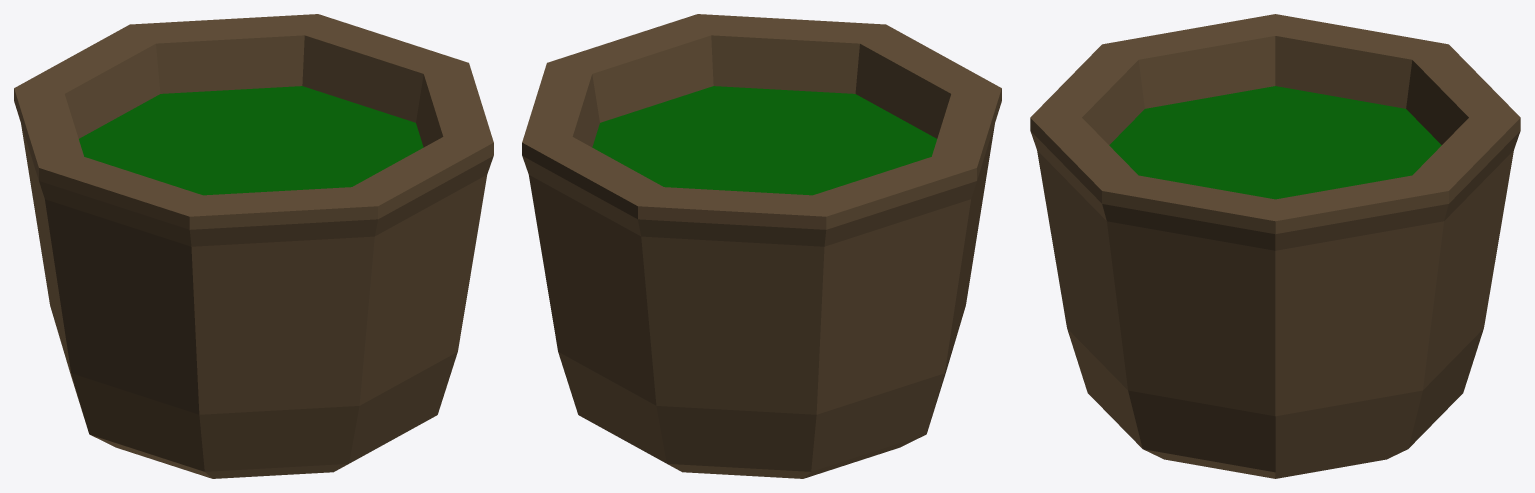
File: Asian_Prop_Cup_Mug_Tea_Sake_Full_01.FBX
3 views of the same model, side by side, from view 1: azimuth 30°, elevation 25°; view 2: azimuth 150°, elevation 25°; view 3: azimuth 270°, elevation 25° (orthographic).
Visible parts, largest first — view 1: Asian_Prop_Cup_Mug_Tea_Sake_Full_01; view 2: Asian_Prop_Cup_Mug_Tea_Sake_Full_01; view 3: Asian_Prop_Cup_Mug_Tea_Sake_Full_01.
Part boxes in pixels (left/top/right/bottom): Asian_Prop_Cup_Mug_Tea_Sake_Full_01: left=14, top=14, right=493, bottom=478; Asian_Prop_Cup_Mug_Tea_Sake_Full_01: left=522, top=14, right=1001, bottom=478; Asian_Prop_Cup_Mug_Tea_Sake_Full_01: left=1030, top=14, right=1520, bottom=478.
Bounding box in the file's own units: 90.36 × 59.93 × 90.36.
